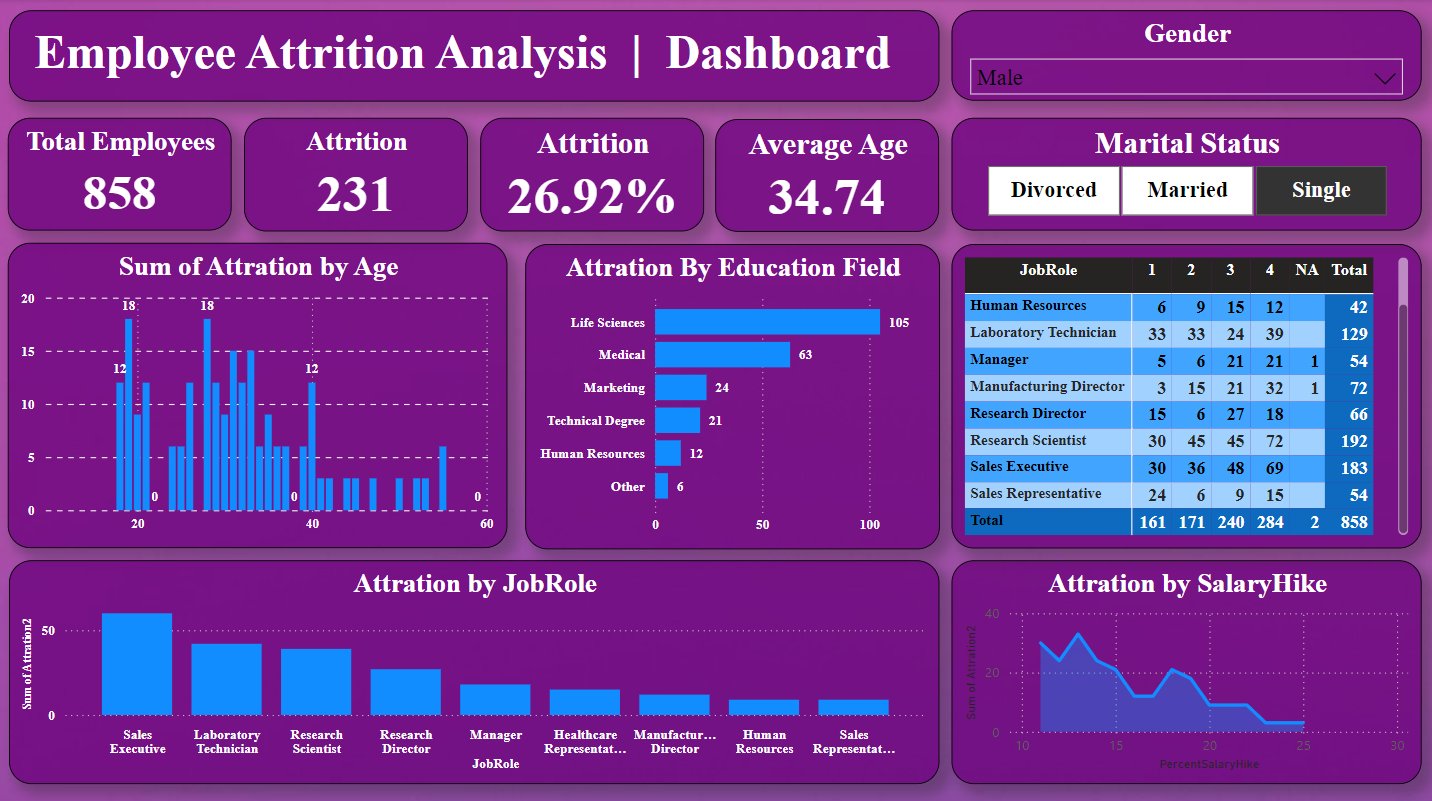

The dashboard page shown, as its layout file describes it:
{"tool":"powerbi","page":{"name":"Page 1","canvas":[1280,720],"ordinal":0},"visuals":[{"type":"card","title":"Total Employees","fields":{"Values":["Sum(Attrition data.EmployeeCount)"]},"box":[8.1,105.8,200,101.2],"z":0},{"type":"card","title":"Attrition","fields":{"Values":["Sum(Attrition data.Attration2)"]},"box":[218.6,105.7,200,101.4],"z":1000},{"type":"card","title":"Attrition","fields":{"Values":["Attrition data.Attrition Percentage"]},"box":[430,105.7,200,101.4],"z":2000},{"type":"card","title":"Average Age","fields":{"Values":["Avg(Attrition data.Age)"]},"box":[640,106.7,200,101.1],"z":3000},{"type":"clusteredBarChart","title":"Attration By Education Field","fields":{"Category":["Attrition data.EducationField"],"Y":["Sum(Attrition data.Attration2)"]},"box":[470,218.6,370,272.9],"z":4000},{"type":"columnChart","title":"Sum of Attration by Age","fields":{"Category":["Attrition data.Age"],"Y":["Sum(Attrition data.Attration2)"]},"box":[8.2,218.2,446.5,272.9],"z":5000},{"type":"textbox","box":[8.6,10,831.4,81.4],"z":6000},{"type":"columnChart","title":"Attration by JobRole","fields":{"Y":["Sum(Attrition data.Attration2)"],"Category":["Attrition data.JobRole"]},"box":[8.9,501.1,831.1,200],"z":7000},{"type":"areaChart","title":"Attration by SalaryHike","fields":{"Category":["Attrition data.PercentSalaryHike"],"Y":["Sum(Attrition data.Attration2)"]},"box":[851.1,501.1,420,200],"z":8000},{"type":"pivotTable","fields":{"Rows":["Attrition data.JobRole"],"Columns":["Attrition data.JobSatisfaction"],"Values":["Sum(Attrition data.EmployeeCount)"]},"box":[851.1,218.9,420,272.2],"z":9000},{"type":"slicer","title":"Gender","fields":{"Values":["Attrition data.Gender"]},"box":[851.1,10,420,81.1],"z":10000},{"type":"slicer","title":"Marital Status","fields":{"Values":["Attrition data.MaritalStatus"]},"box":[851.1,105.6,420,101.1],"z":11000}]}

Visuals, with their boxes in screenshot pixels (x1, y1, x2, y2), scaled from the page's 1280x720 canvas onto the 1432x801 screenshot:
"Total Employees" card: [9,118,233,230]
"Attrition" card: [245,118,468,230]
"Attrition" card: [481,118,705,230]
"Average Age" card: [716,119,940,231]
"Attration By Education Field" clusteredBarChart: [526,243,940,547]
"Sum of Attration by Age" columnChart: [9,243,509,546]
textbox: [10,11,940,102]
"Attration by JobRole" columnChart: [10,557,940,780]
"Attration by SalaryHike" areaChart: [952,557,1422,780]
pivotTable - Attrition data.JobRole x Attrition data.JobSatisfaction: [952,244,1422,546]
"Gender" slicer: [952,11,1422,101]
"Marital Status" slicer: [952,117,1422,230]
